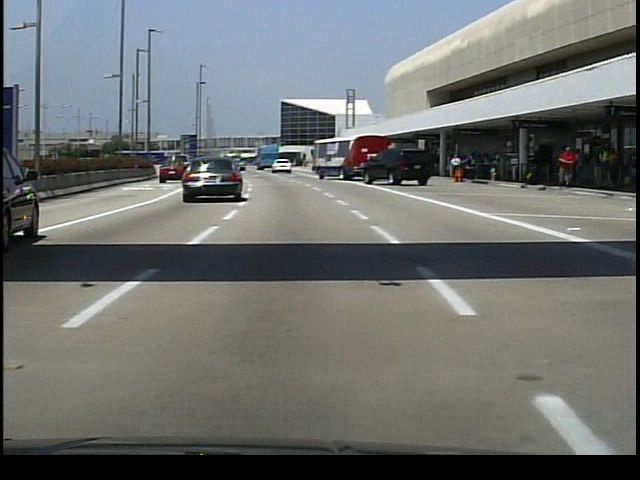person: (553, 143, 579, 190), (620, 152, 637, 189), (449, 153, 465, 185), (596, 147, 608, 188)
